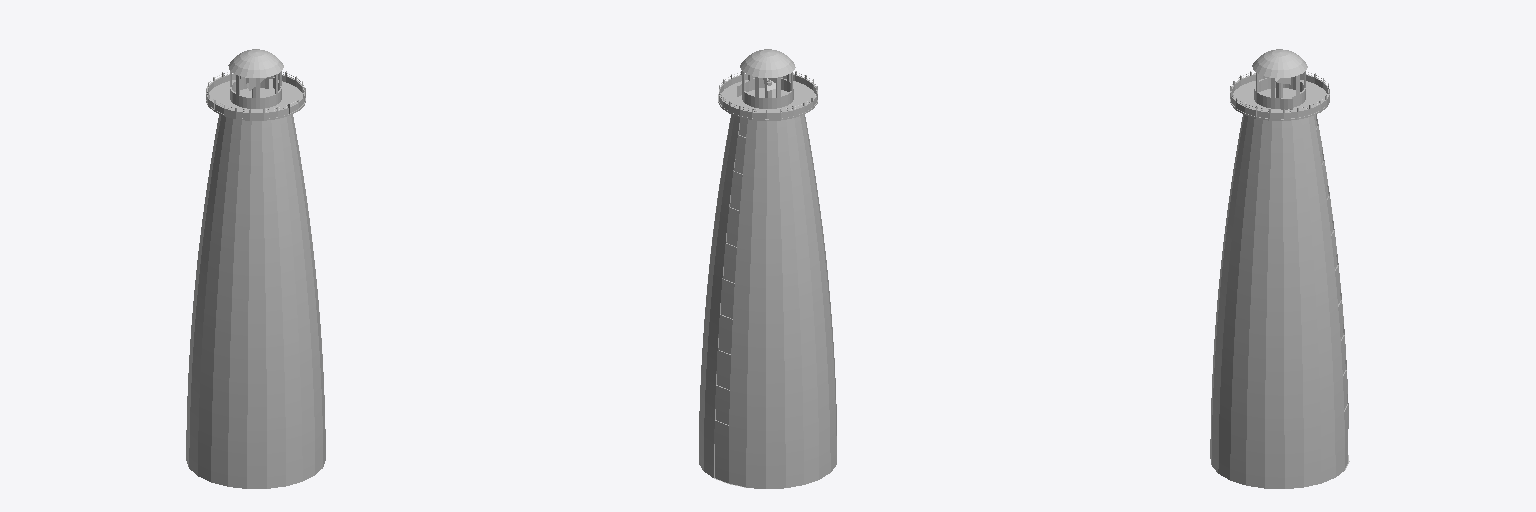
The model's file is lighthouse.obj.
3 views of the same model, side by side, from view 1: azimuth 30°, elevation 25°; view 2: azimuth 150°, elevation 25°; view 3: azimuth 270°, elevation 25° (orthographic).
Parts seen in each view (by area): view 1: ______________, ____________1, ____________; view 2: ______________, ____________, ____________1; view 3: ______________, ____________1, ____________.
Boxes of the visible parts, x1=… form: ______________: x1=186, y1=79, x2=325, y2=488; ____________1: x1=228, y1=49, x2=283, y2=77; ____________: x1=230, y1=71, x2=281, y2=108; ______________: x1=699, y1=79, x2=836, y2=488; ____________: x1=737, y1=71, x2=793, y2=108; ____________1: x1=740, y1=49, x2=795, y2=77; ______________: x1=1210, y1=79, x2=1349, y2=488; ____________1: x1=1252, y1=49, x2=1307, y2=77; ____________: x1=1254, y1=71, x2=1305, y2=109.
Bounding box in the file's own units: 86.97 × 281 × 86.89.